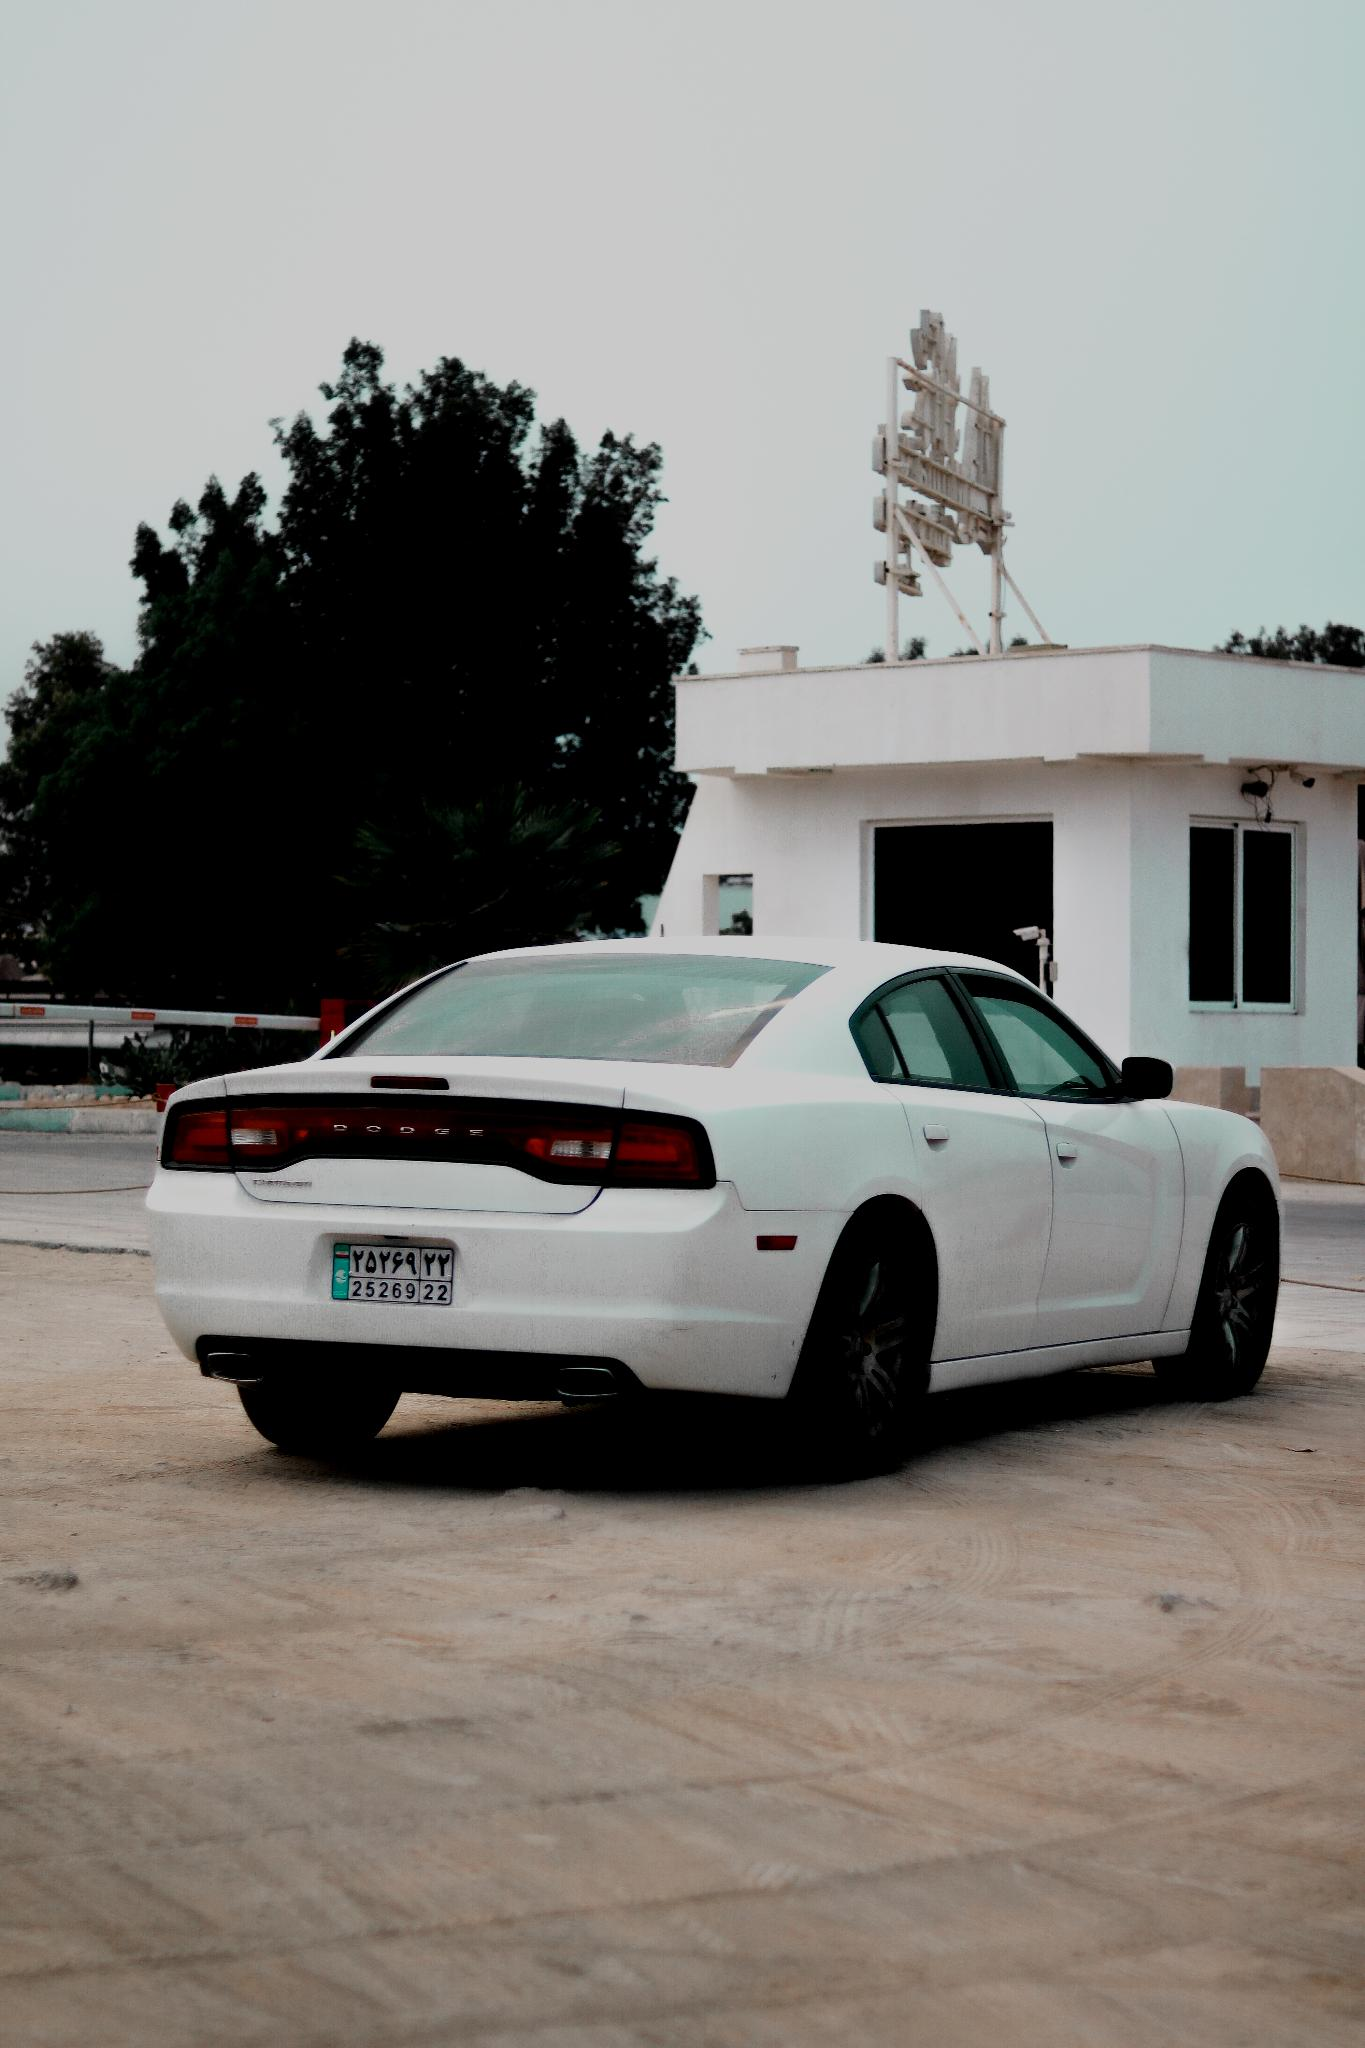dodge: (314, 1102, 512, 1157)
